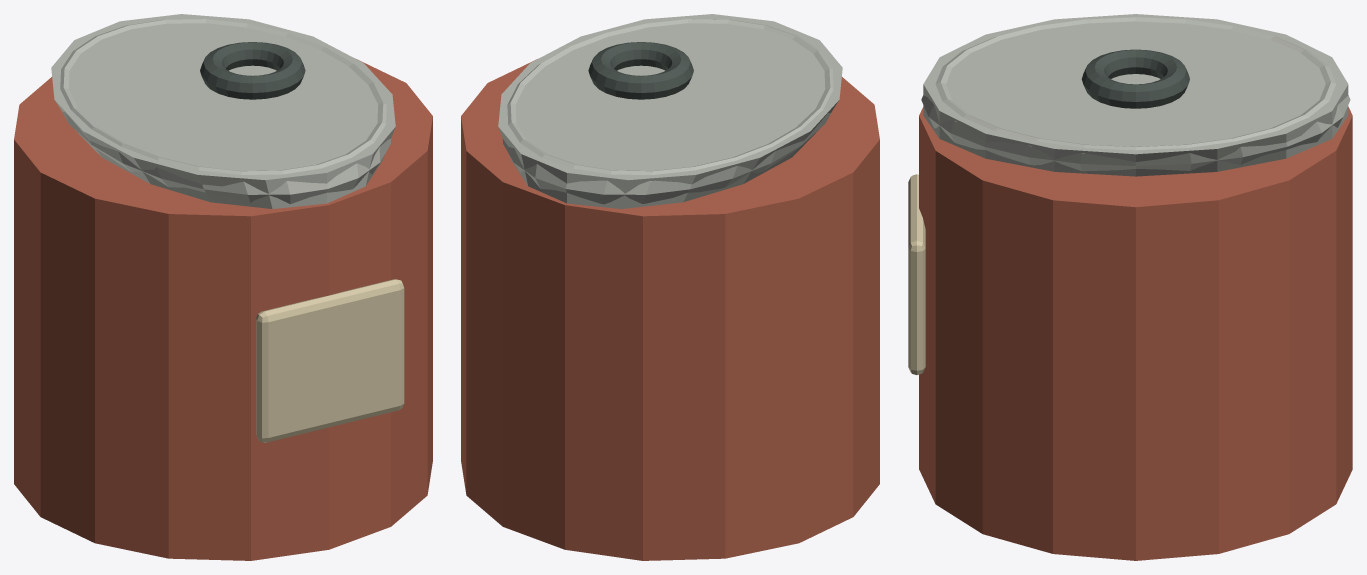
Rendered from Can_Crushed.glb.
The picture shows the model from 3 angles, left to right: view 1: azimuth 30°, elevation 25°; view 2: azimuth 150°, elevation 25°; view 3: azimuth 270°, elevation 25°; orthographic projection. The views are drawn at different scales.
Visible parts, largest first — view 1: Litter; view 2: Litter; view 3: Litter.
Part boxes in pixels (x1=…): Litter: x1=14, y1=14, x2=432, y2=560; Litter: x1=461, y1=14, x2=879, y2=560; Litter: x1=908, y1=14, x2=1352, y2=560.
Bounding box in the file's own units: 0.2 × 0.212 × 0.205.
